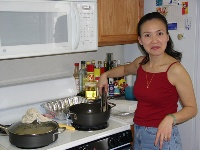person: (98, 13, 198, 150)
